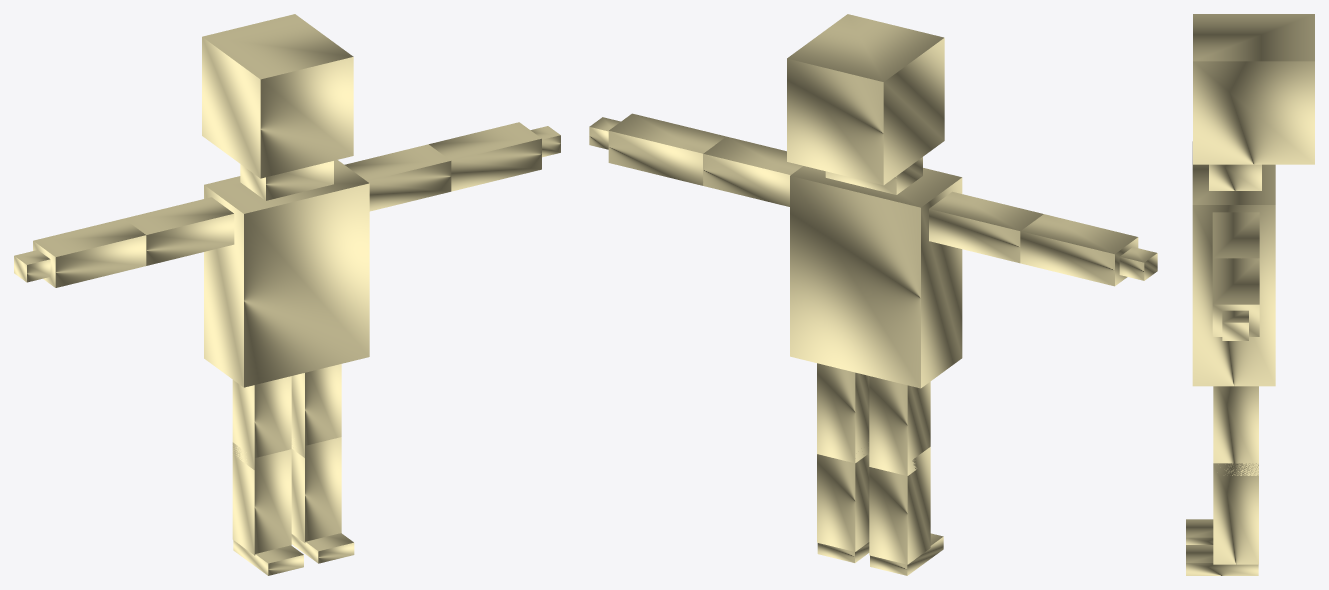
The model's file is Player.fbx.
3 views of the same model, side by side, from view 1: azimuth 30°, elevation 25°; view 2: azimuth 150°, elevation 25°; view 3: azimuth 270°, elevation 25° (orthographic). The views are drawn at different scales.
Visible parts, largest first — view 1: Torso, Head, LowerRightLeg, LowerRightArm, LowerLeftArm, LowerLeftLeg, UpperRightArm, UpperLeftArm, UpperRightLeg, UpperLeftLeg, Neck, RightFoot (+2 smaller); view 2: Torso, Head, LowerRightLeg, LowerRightArm, LowerLeftArm, UpperRightLeg, UpperRightArm, UpperLeftLeg, LowerLeftLeg, UpperLeftArm, Neck, RightHand (+1 smaller); view 3: Head, Torso, LowerLeftLeg, UpperLeftLeg, LowerLeftArm, UpperLeftArm, Neck, LeftFoot, LeftHand, RightFoot.
Boxes of the visible parts, x1,y1,x2,y2 form: Torso: (204,160,369,387); Head: (202,14,353,178); LowerRightLeg: (232,442,291,555); LowerRightArm: (33,218,146,287); LowerLeftArm: (429,122,541,191); LowerLeftLeg: (291,437,341,542); UpperRightArm: (124,197,234,265); UpperLeftArm: (344,144,451,211); UpperRightLeg: (232,376,291,469); UpperLeftLeg: (291,364,341,457); Neck: (240,161,333,200); RightFoot: (233,540,303,575); Torso: (790,166,962,388); Head: (787,14,944,185); LowerRightLeg: (869,447,930,564); LowerRightArm: (1020,214,1138,286); LowerLeftArm: (608,113,725,185); UpperRightLeg: (869,376,930,475); UpperRightArm: (929,191,1043,263); UpperLeftLeg: (817,363,869,463); LowerLeftLeg: (817,453,869,551); UpperLeftArm: (703,136,802,206); Neck: (825,157,922,194); RightHand: (1119,247,1157,280); Head: (1193,14,1314,164); Torso: (1192,141,1275,386); LowerLeftLeg: (1213,463,1258,564); UpperLeftLeg: (1213,386,1258,475); LowerLeftArm: (1212,258,1259,336); UpperLeftArm: (1212,212,1259,258); Neck: (1209,164,1261,190); LeftFoot: (1186,545,1258,575); LeftHand: (1222,310,1248,340); RightFoot: (1186,519,1213,544).
Size of the model in its own units: 82.65 by 73.29 by 16.6.
